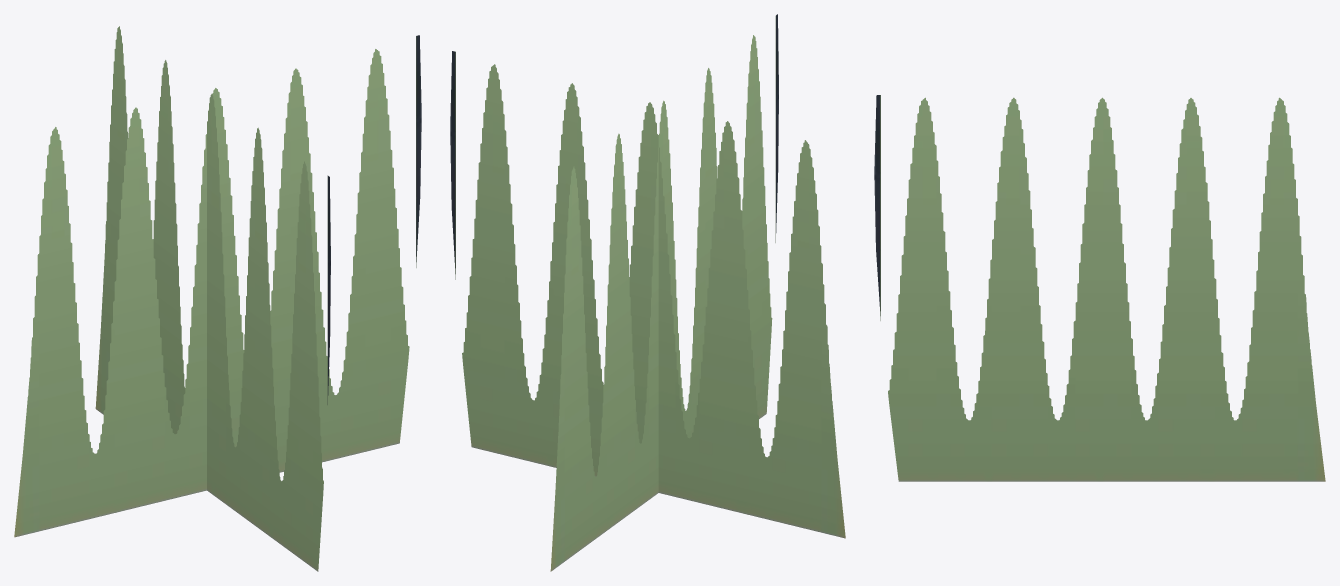
Rendered from grass_tuft_a.glb.
The picture shows the model from 3 angles, left to right: view 1: azimuth 30°, elevation 25°; view 2: azimuth 150°, elevation 25°; view 3: azimuth 270°, elevation 25°; orthographic projection. The views are drawn at different scales.
Parts seen in each view (by area): view 1: lod0; view 2: lod0; view 3: lod0.
Part boxes in pixels (x1,y1,x2,y2): lod0: (14,26,421,571); lod0: (450,14,845,571); lod0: (874,95,1325,481).
Size of the model in its own units: 0.74 by 0.7 by 0.74.
1 material, 1 textured.
